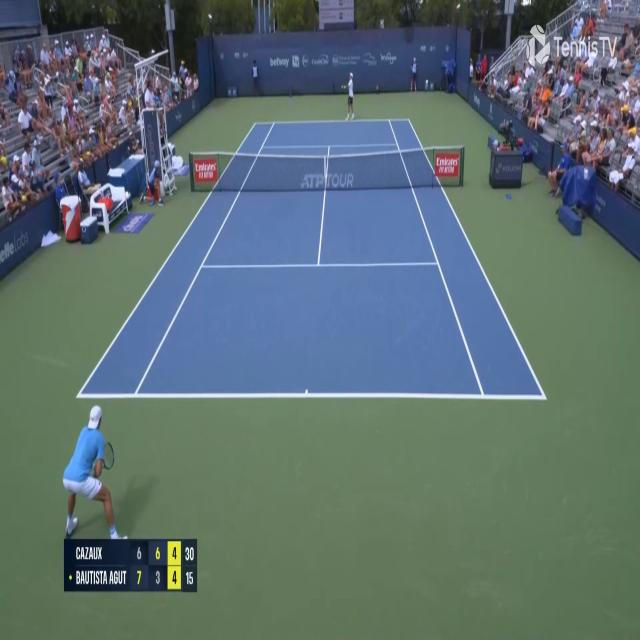tennis-player: (60, 401, 124, 547), (341, 70, 356, 121)
